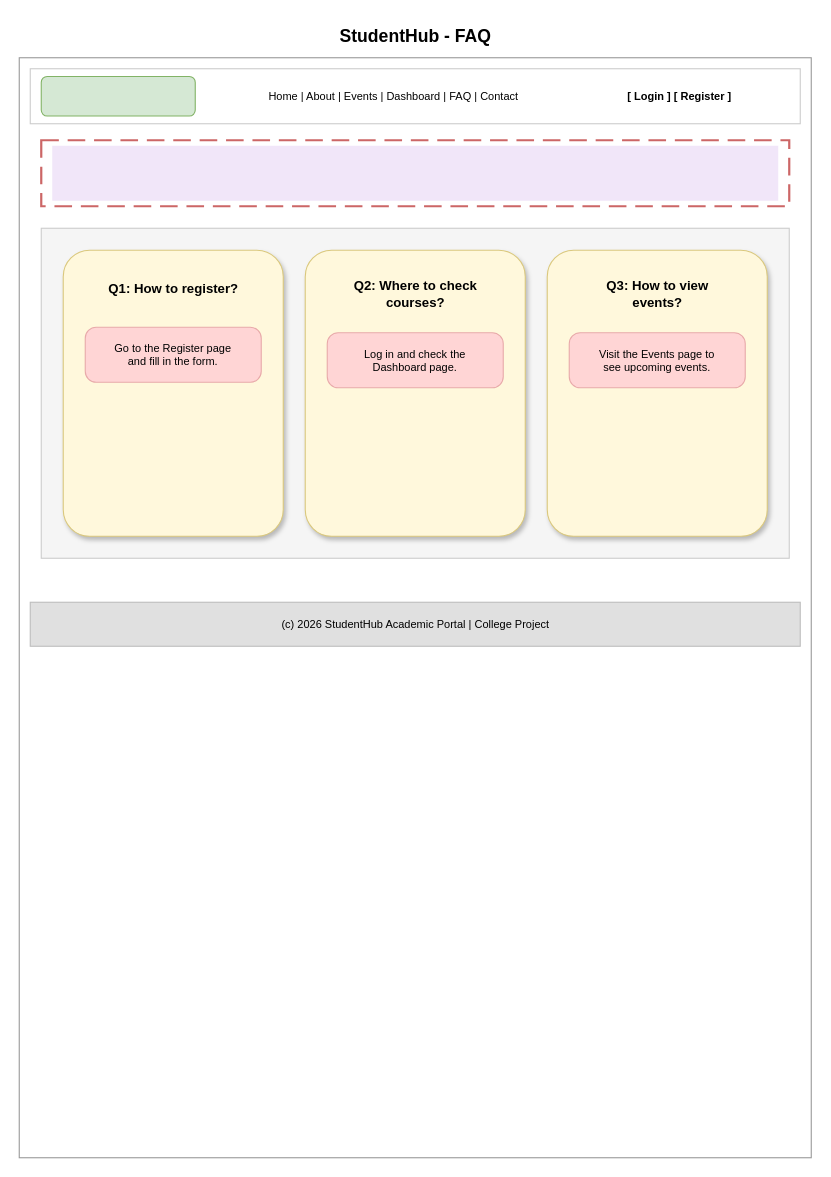
Image size: 831x1177. Some labels were removed from this diagram. Here are the shapes that lost their labels. From the top down, the centre of each, then its label:
At pixel 117 95: "[ Logo ] StudentHub".
At pixel 415 172: "Frequently Asked Questions".
